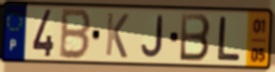4: (31, 8, 56, 60)
B: (58, 7, 93, 62), (178, 12, 213, 64)
J: (139, 14, 165, 60)
K: (104, 11, 131, 60)
L: (215, 15, 242, 63)
